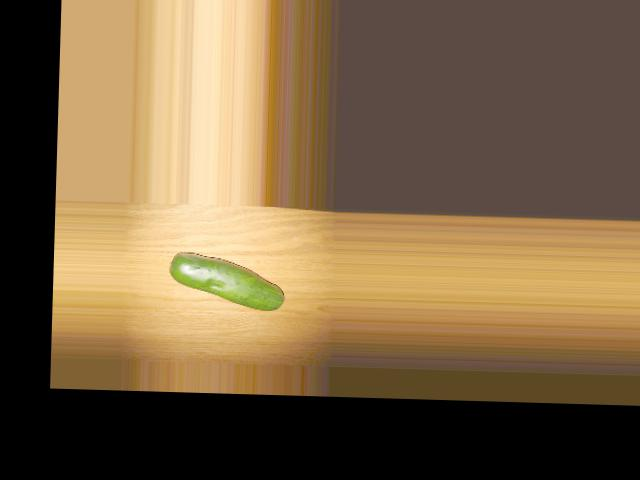cucumber: (170, 251, 286, 310)
